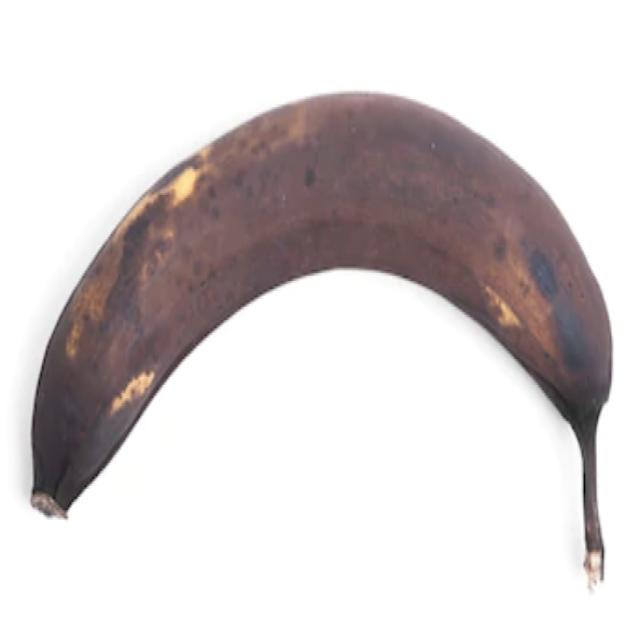rotten-banana: (29, 86, 614, 588)
